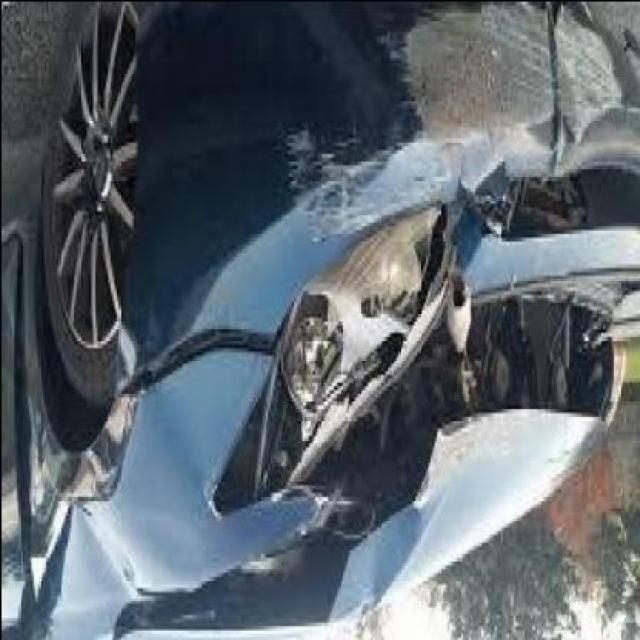damage: (8, 1, 640, 637)
